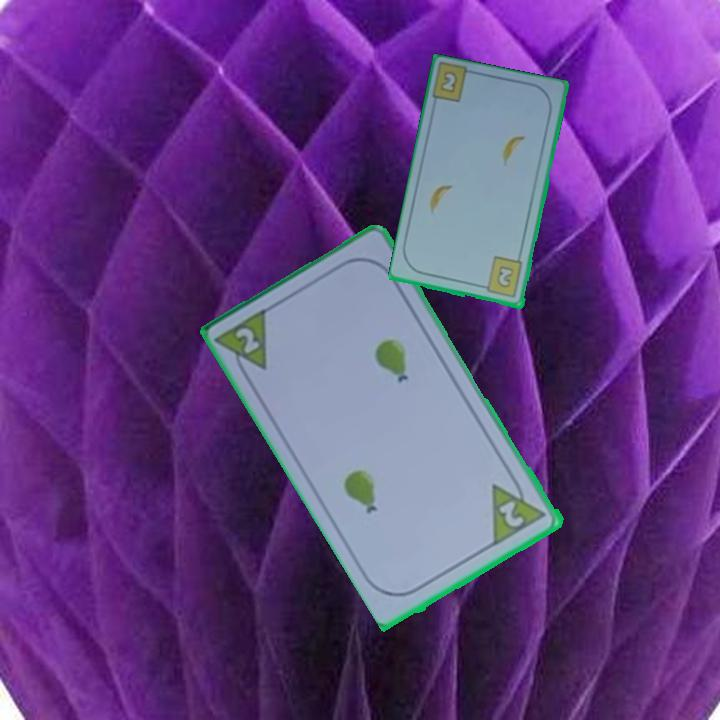2b: (478, 254, 526, 301), (439, 70, 459, 94)
2p: (214, 303, 273, 385), (488, 470, 550, 548)
